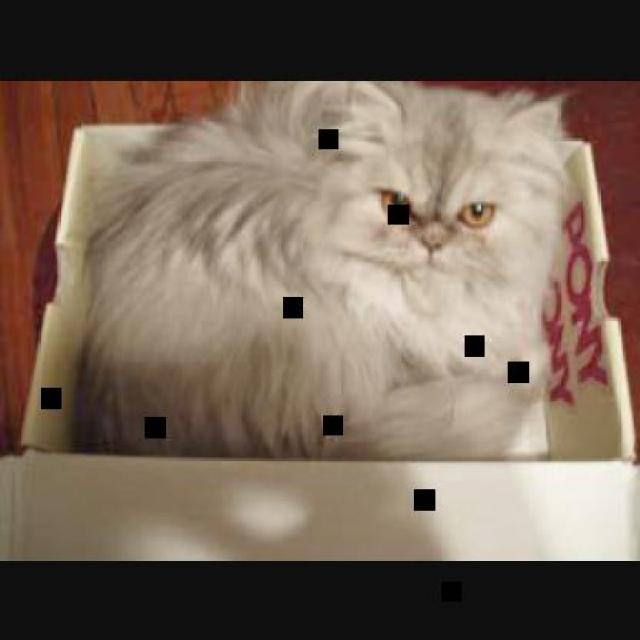unauthorized: (71, 79, 578, 458)
